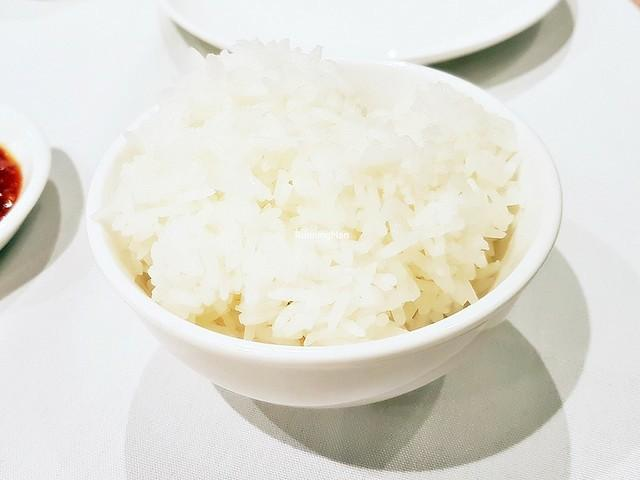WhiteRice: (108, 36, 526, 345)
